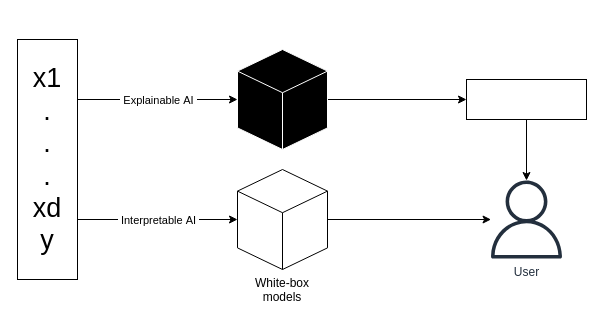
Image size: 604x323. Some labels were removed from this diagram. Each missing label, with the centre of its shape:
Black-box models: (282,99)
Explainable models: (526,99)
